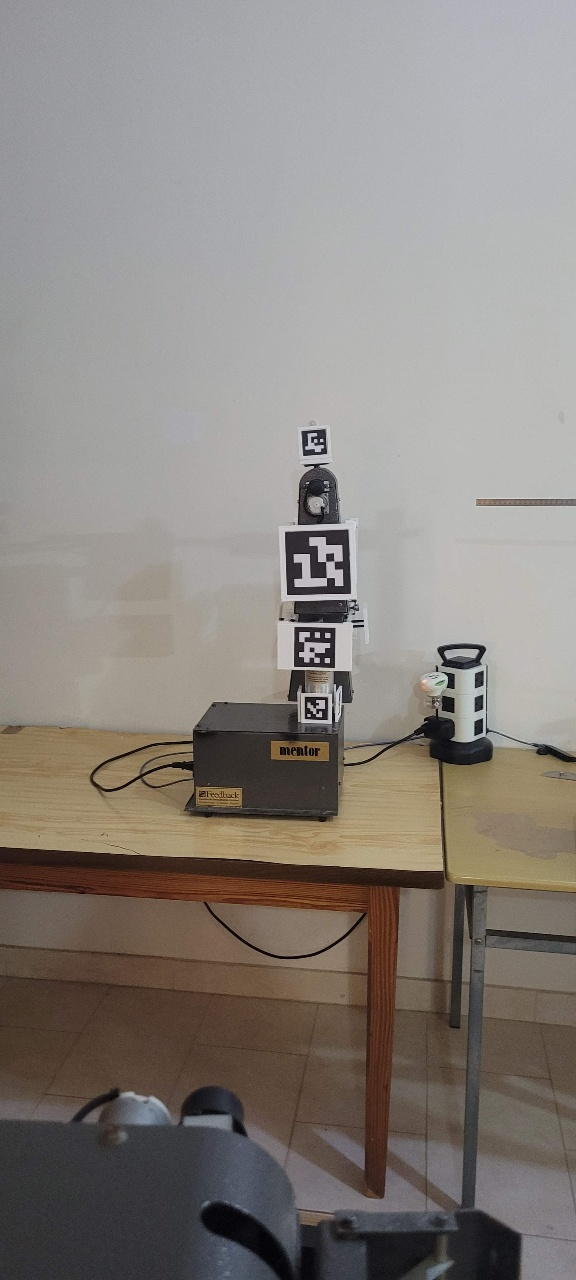Robot: (274, 424, 368, 728)
